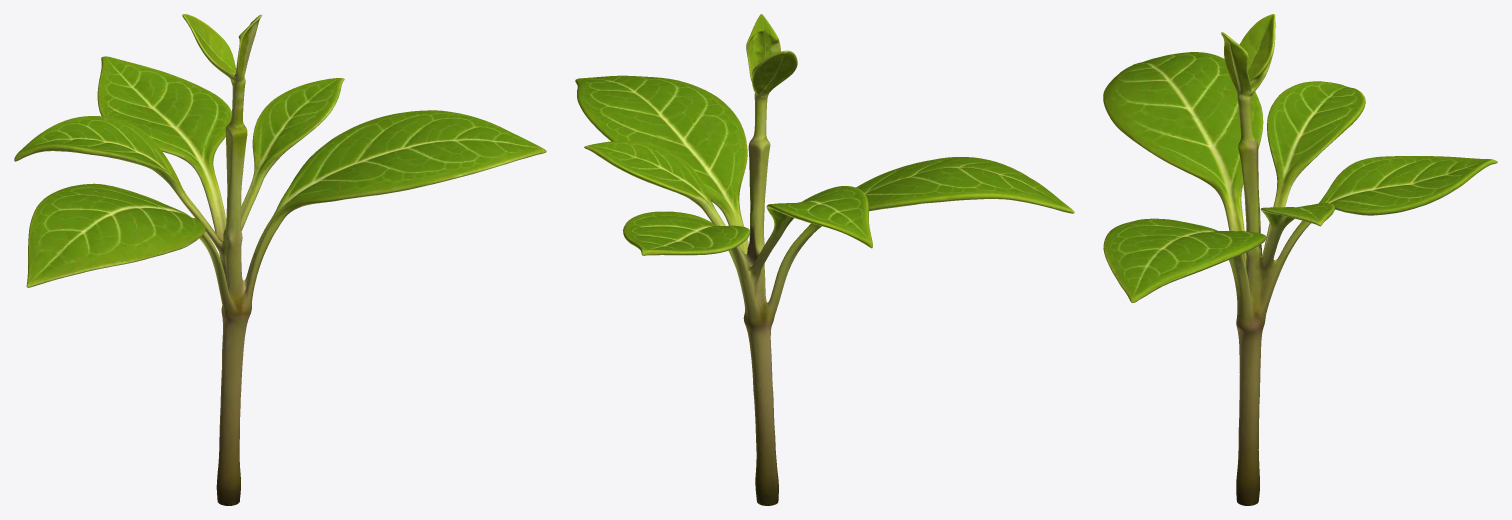
File: stage-2.glb
3 renders of one model, left to right at view 1: azimuth 30°, elevation 25°; view 2: azimuth 150°, elevation 25°; view 3: azimuth 270°, elevation 25°, orthographic. The views are drawn at different scales.
Bounding box in the file's own units: 1.91 × 1.73 × 1.29.
Materials: 1 (1 with a texture image).
